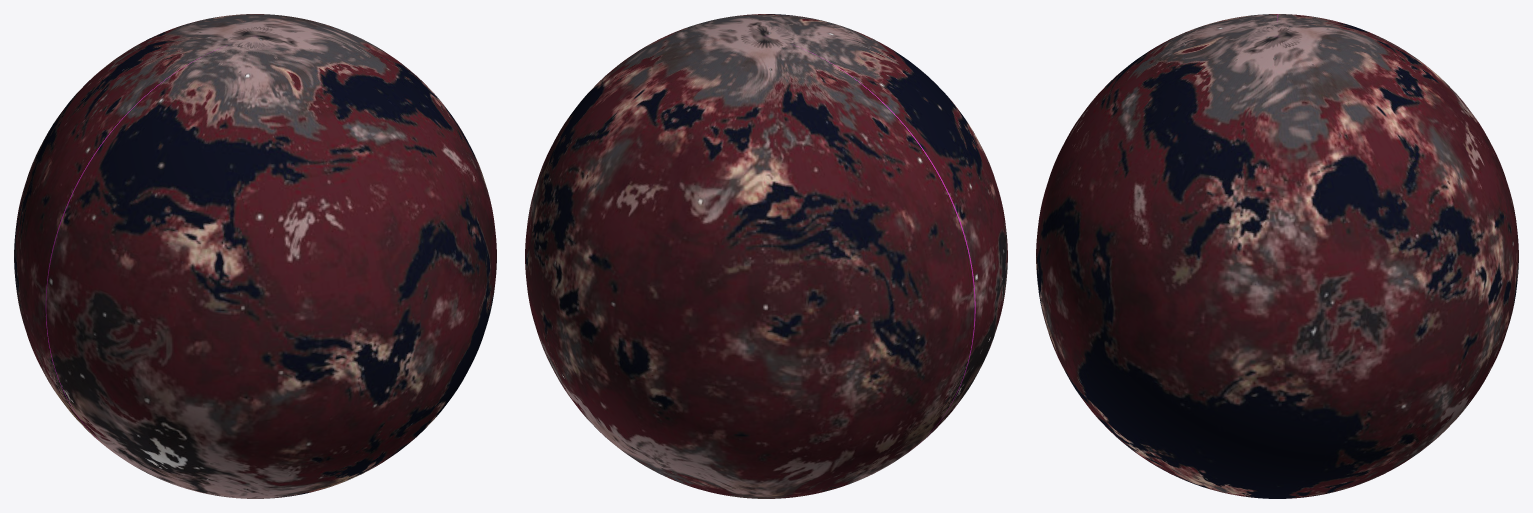
Rendered from Planet1.glb.
3 views of the same model, side by side, from view 1: azimuth 30°, elevation 25°; view 2: azimuth 150°, elevation 25°; view 3: azimuth 270°, elevation 25° (orthographic).
Visible parts, largest first — view 1: Sphere; view 2: Sphere; view 3: Sphere.
Boxes of the visible parts, x1,y1,x2,y2 form: Sphere: [14, 14, 496, 498]; Sphere: [525, 14, 1007, 498]; Sphere: [1036, 14, 1518, 498].
Bounding box in the file's own units: 1.99 × 2 × 1.99.
1 material, 1 textured.
